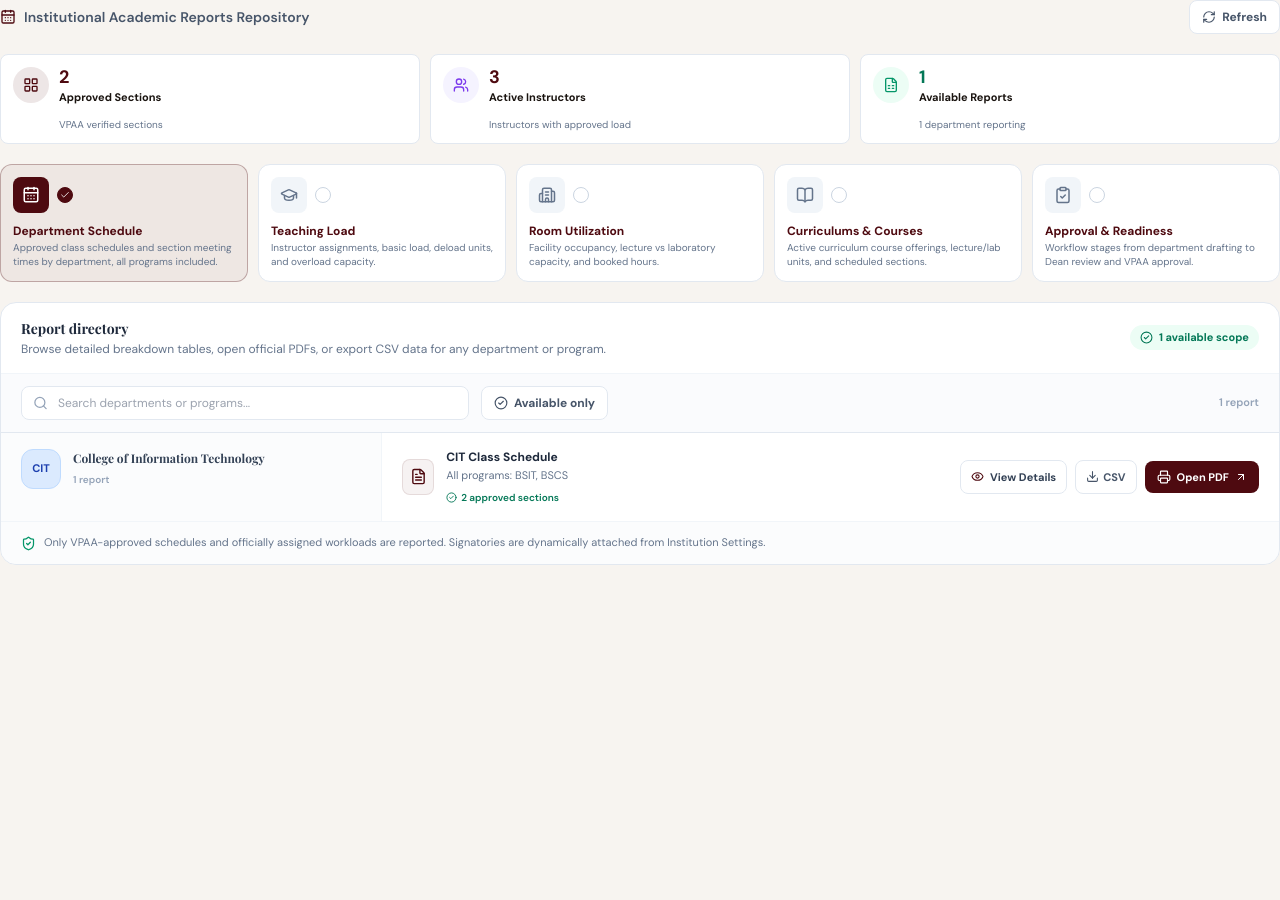
Test: Reports directory › opens and closes the detailed report modal with breakdown table
Expected: the text "CIT Class Schedule" is shown, [446,448,558,464]
Click the button with aria-label "View Details: CIT Class Schedule".
click(1014, 477)  # box [960,460,1067,494]
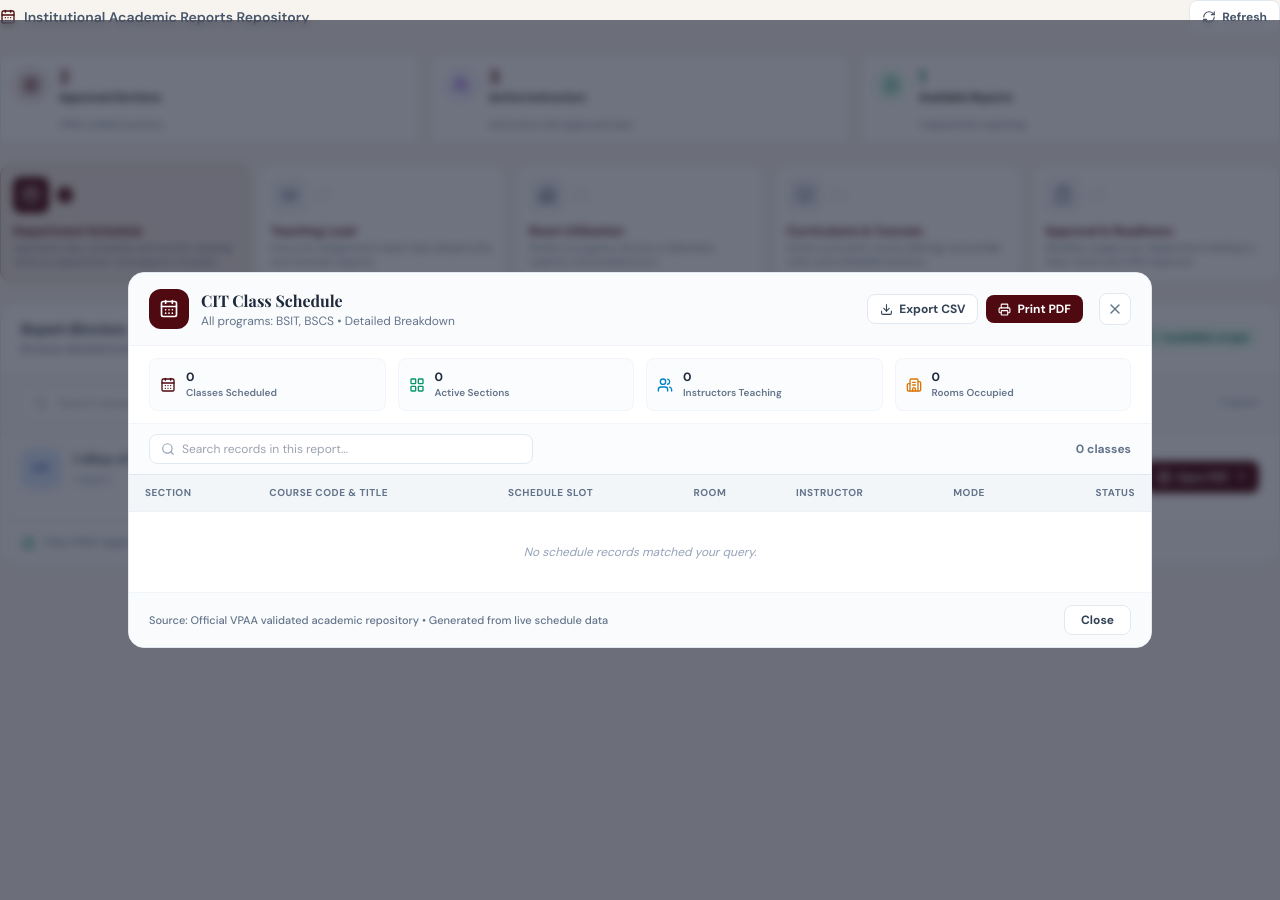
Expected: the dialog is shown
# Close modal
Click the button named "Close detail modal".
click(1115, 309)  # box [1099,293,1131,325]
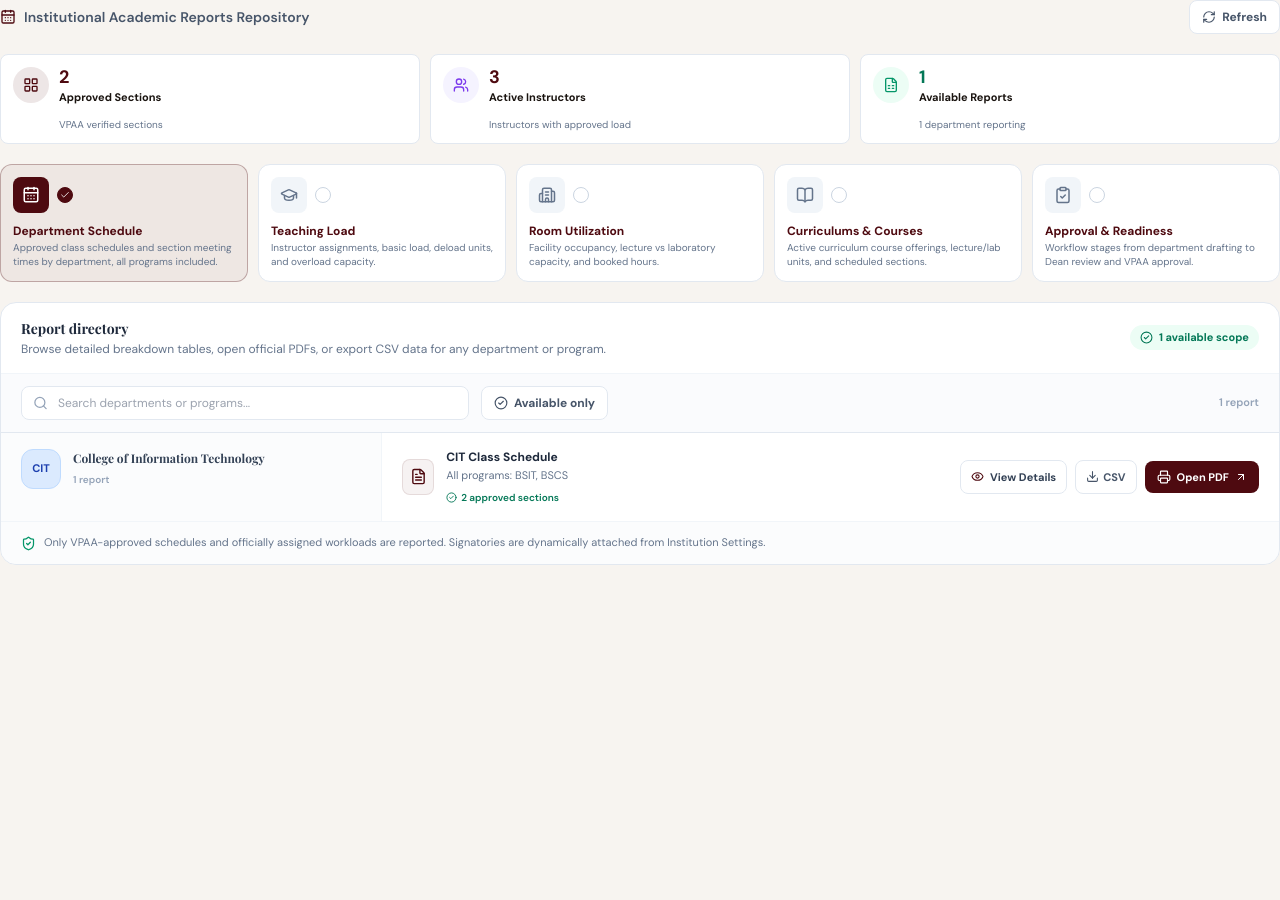
Expected: the dialog is gone
